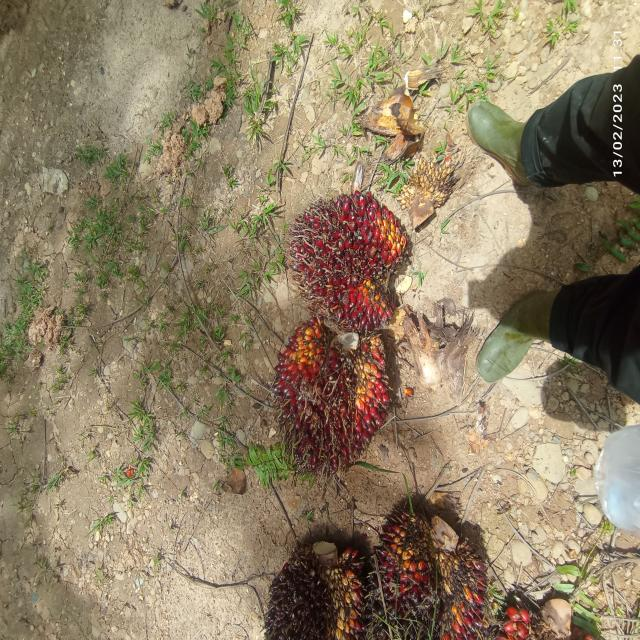fraksi 3: (259, 285, 424, 503), (282, 159, 424, 357)
